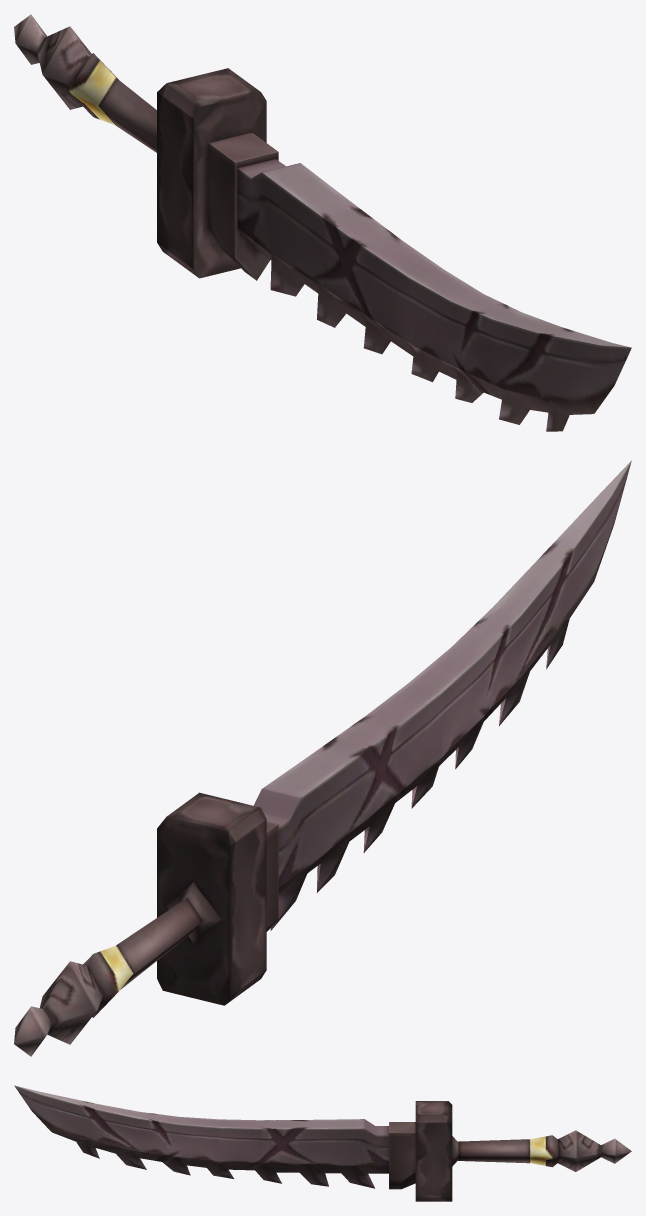
3 renders of one model, top to bottom at view 1: azimuth 30°, elevation 25°; view 2: azimuth 150°, elevation 25°; view 3: azimuth 270°, elevation 25°, orthographic. The views are drawn at different scales.
Visible parts, largest first — view 1: mKatana; view 2: mKatana; view 3: mKatana.
Part boxes in pixels (left/top/right/bottom): mKatana: left=14, top=14, right=631, bottom=431; mKatana: left=14, top=460, right=631, bottom=1056; mKatana: left=14, top=1085, right=631, bottom=1201.
Bounding box in the file's own units: 0.068 × 0.1923 × 0.9912.
